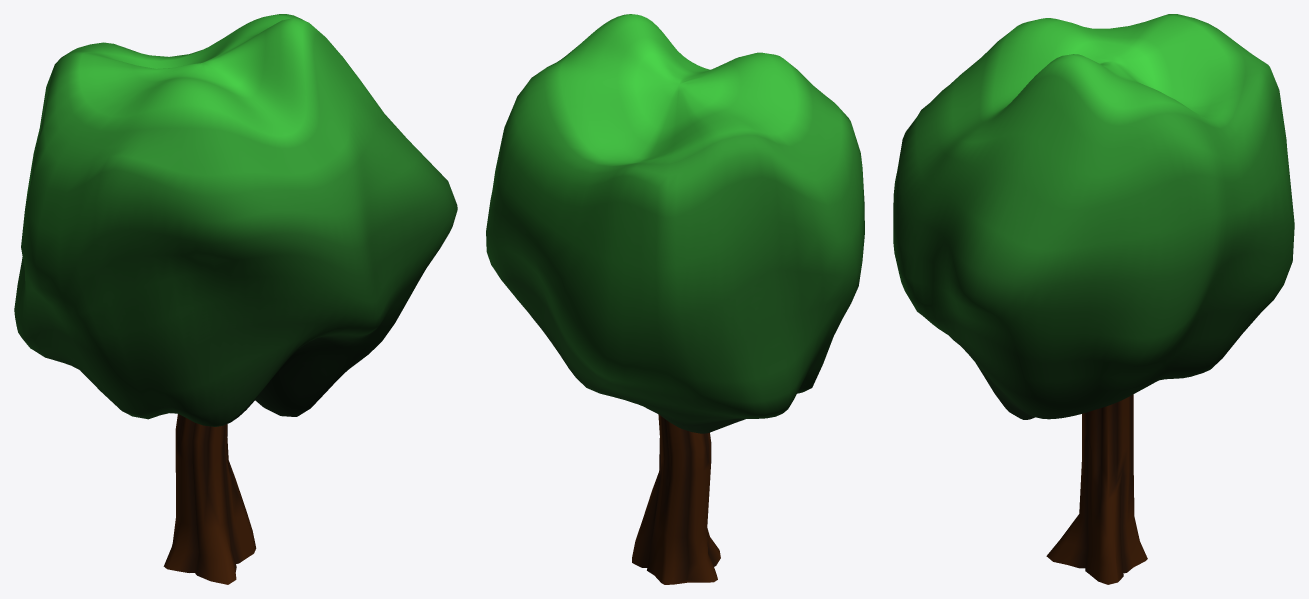
Rendered from Curved Tree 1.fbx.
The picture shows the model from 3 angles, left to right: view 1: azimuth 30°, elevation 25°; view 2: azimuth 150°, elevation 25°; view 3: azimuth 270°, elevation 25°; orthographic projection. The views are drawn at different scales.
Parts seen in each view (by area): view 1: polySurface119; view 2: polySurface119; view 3: polySurface119.
Boxes of the visible parts, <box> form: polySurface119: <box>14,14,457,584</box>; polySurface119: <box>486,14,864,584</box>; polySurface119: <box>893,14,1294,584</box>.
Size of the model in its own units: 10.85 by 15.01 by 10.14.
